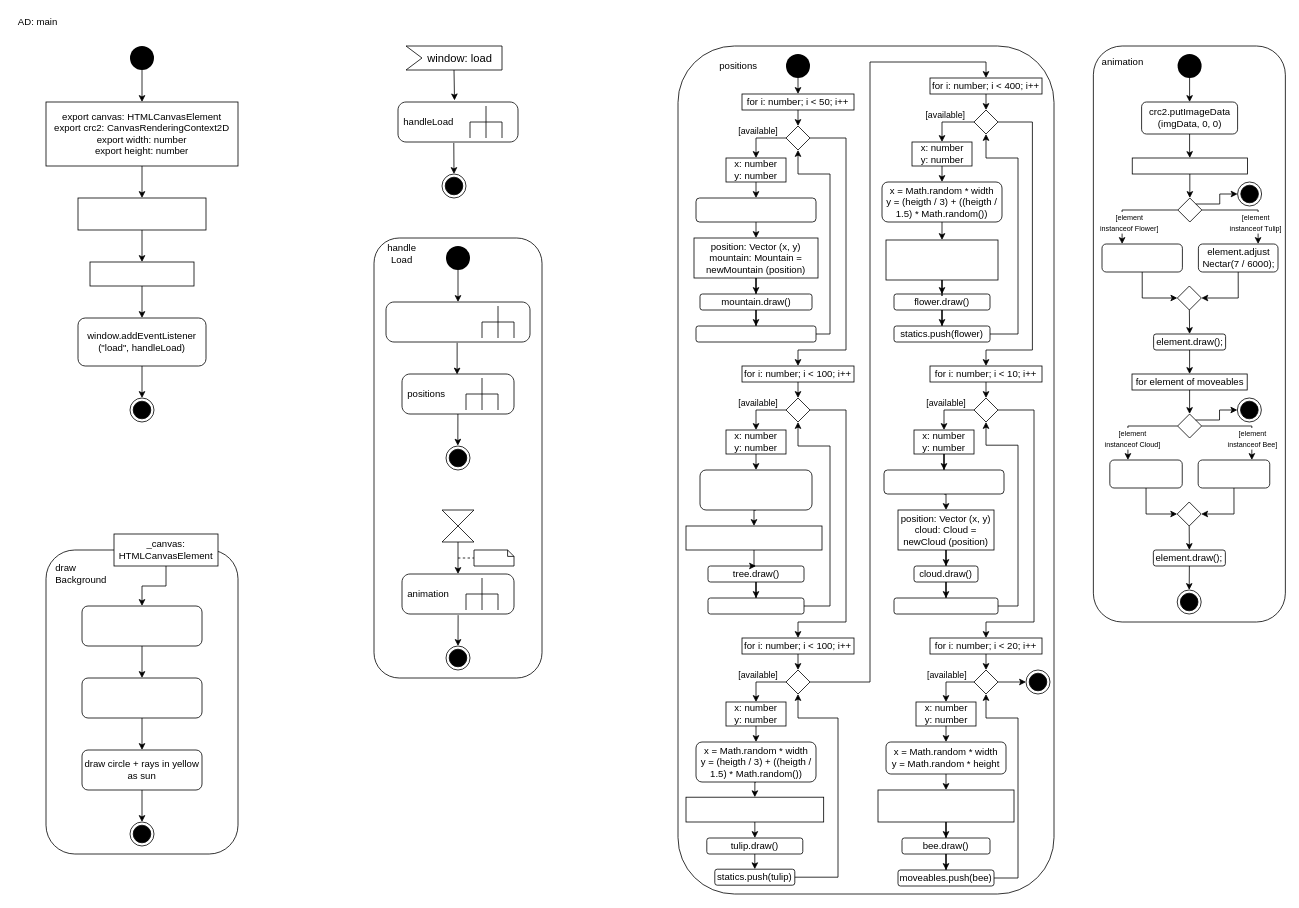
This 1299x908 diagram has some shape labels left out. The centre of each missing label's shape, as x and y in pixels:
30ms: (x=493, y=557)
drawBackground (canvas): (x=457, y=321)
element.adjust Nectar(1 / 2000);: (x=1141, y=257)
element.move (1 / 10);: (x=1145, y=473)
element.move (1 / 8);: (x=1233, y=473)
fillRect (0, 0, width, height) in light blue: (x=141, y=625)
fillRect (0, height / 4, width, height / 0,75) in green: (x=141, y=697)
for element of statics: (x=1189, y=165)
imgData: ImageData: (x=141, y=273)
moveables.push(cloud): (x=945, y=605)
position: Vector (x, y) bee: Bee = newBee (position): (x=945, y=805)
position: Vector (x, y) flower: Flower = newFlower (position): (x=941, y=259)
position: Vector (x, y) tree: Tree = newTree (position): (x=753, y=537)
position: Vector (x, y) tulip: Tulip = newTulip (position): (x=754, y=809)
statics [ ]; moveables [ ];: (x=141, y=213)
statics.push(mountain): (x=755, y=333)
statics.push(tree): (x=755, y=605)
x = Math.random * width y = 0 + Math.random * 50: (x=943, y=481)
x = Math.random * width y = heigth / 4: (x=755, y=209)
x = Math.random * width y = heigth / 5 + Math.random * 40: (x=755, y=489)
